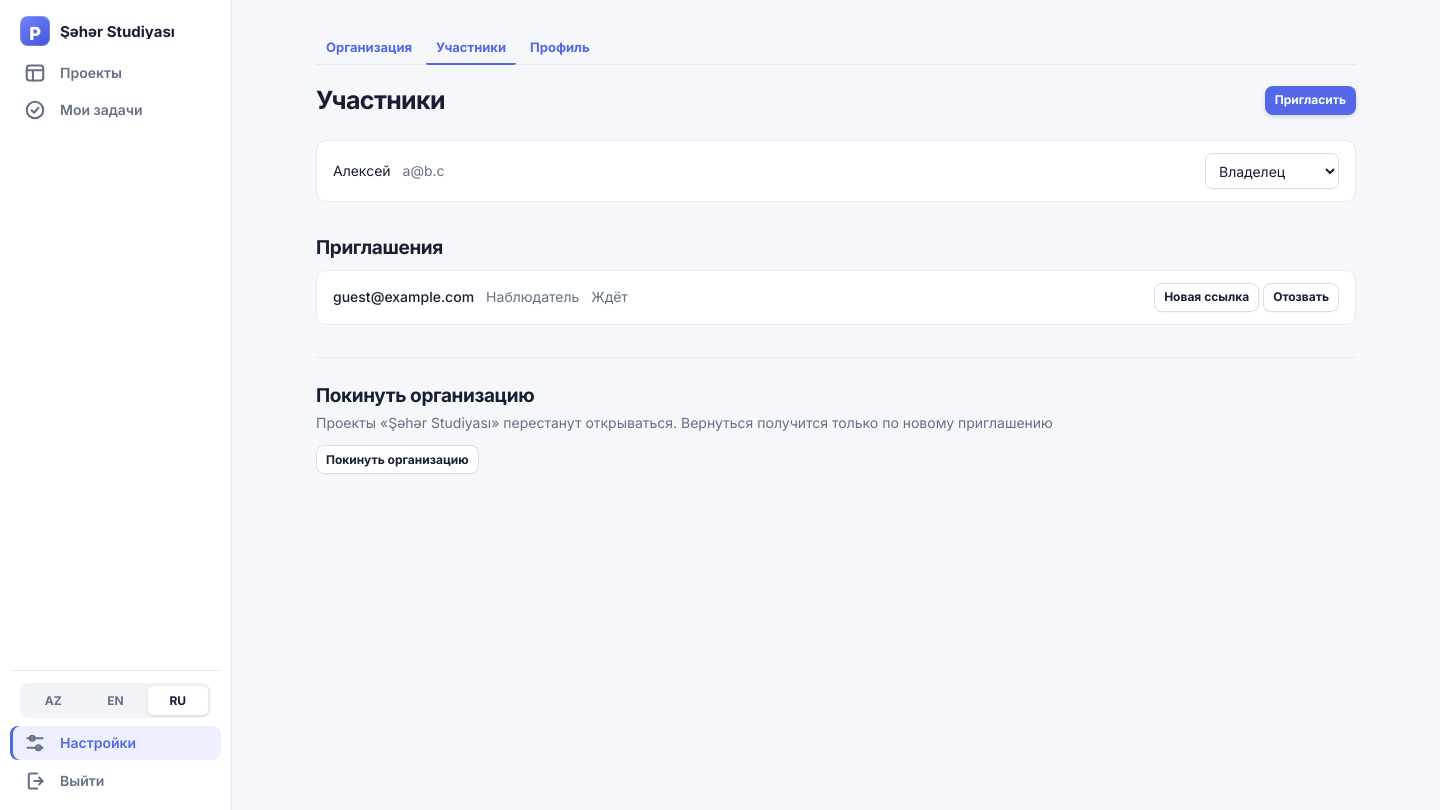
Test: подтверждения на экранах организации › отзыв приглашения подтверждается: на экране от него меняются два слова
Click the button "Отозвать" at (1301, 297), box left=1263, top=283, right=1339, bottom=312
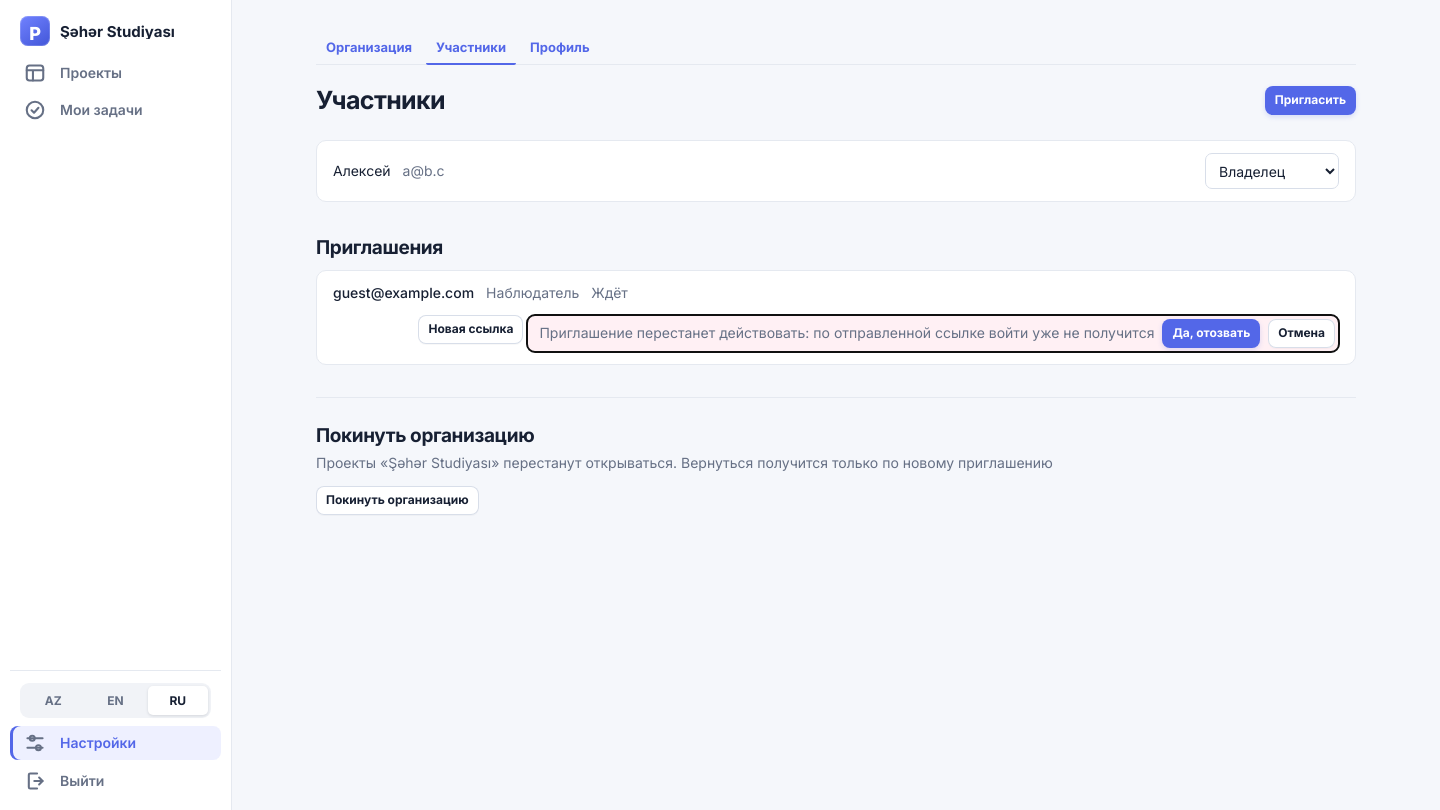
Click the button "Да, отозвать" at (1211, 333), box left=1162, top=319, right=1260, bottom=348
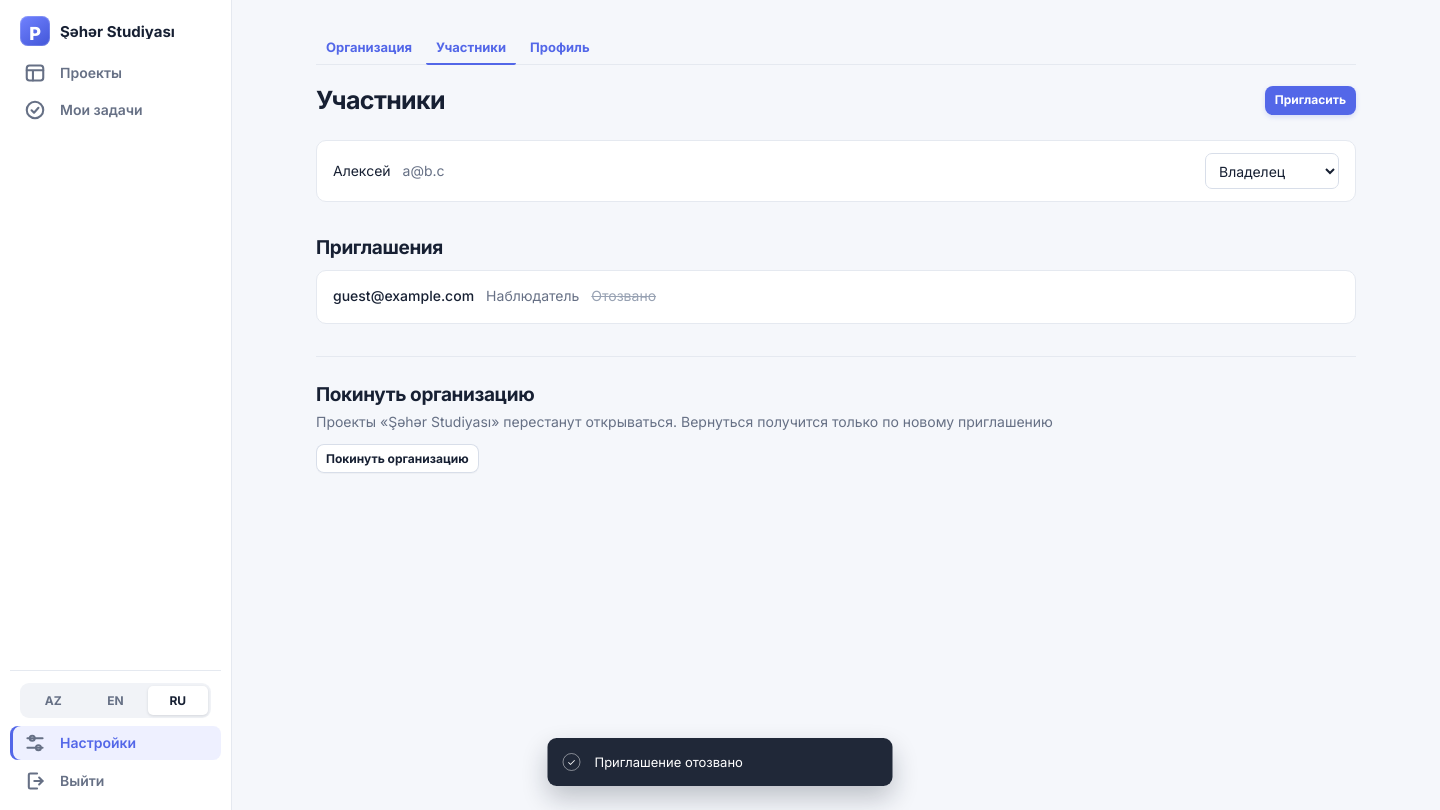
Check: the text "Приглашение отозвано" is shown, box left=594, top=754, right=743, bottom=770
